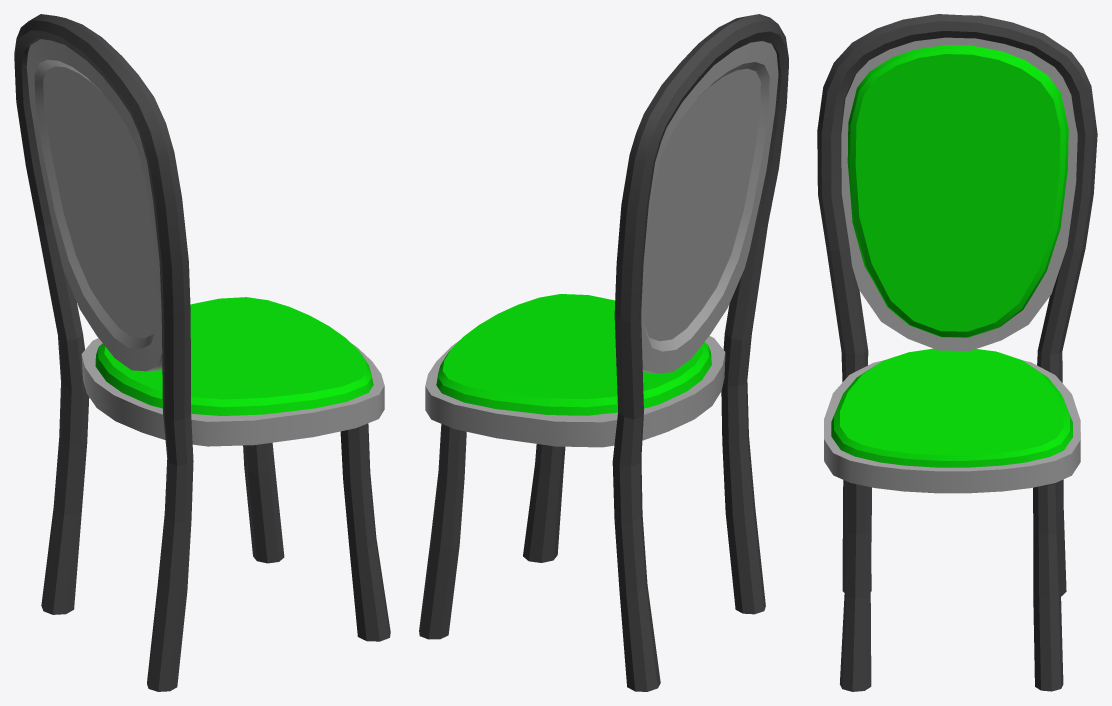
File: Kitchen_Chair.fbx
3 renders of one model, left to right at view 1: azimuth 30°, elevation 25°; view 2: azimuth 150°, elevation 25°; view 3: azimuth 270°, elevation 25°, orthographic. The views are drawn at different scales.
Parts seen in each view (by area): view 1: Kitchen_Chair; view 2: Kitchen_Chair; view 3: Kitchen_Chair.
Boxes of the visible parts, x1=… form: Kitchen_Chair: x1=14, y1=14, x2=390, y2=691; Kitchen_Chair: x1=419, y1=14, x2=788, y2=691; Kitchen_Chair: x1=817, y1=14, x2=1097, y2=691.
Bounding box in the file's own units: 69.32 × 151 × 67.73.
